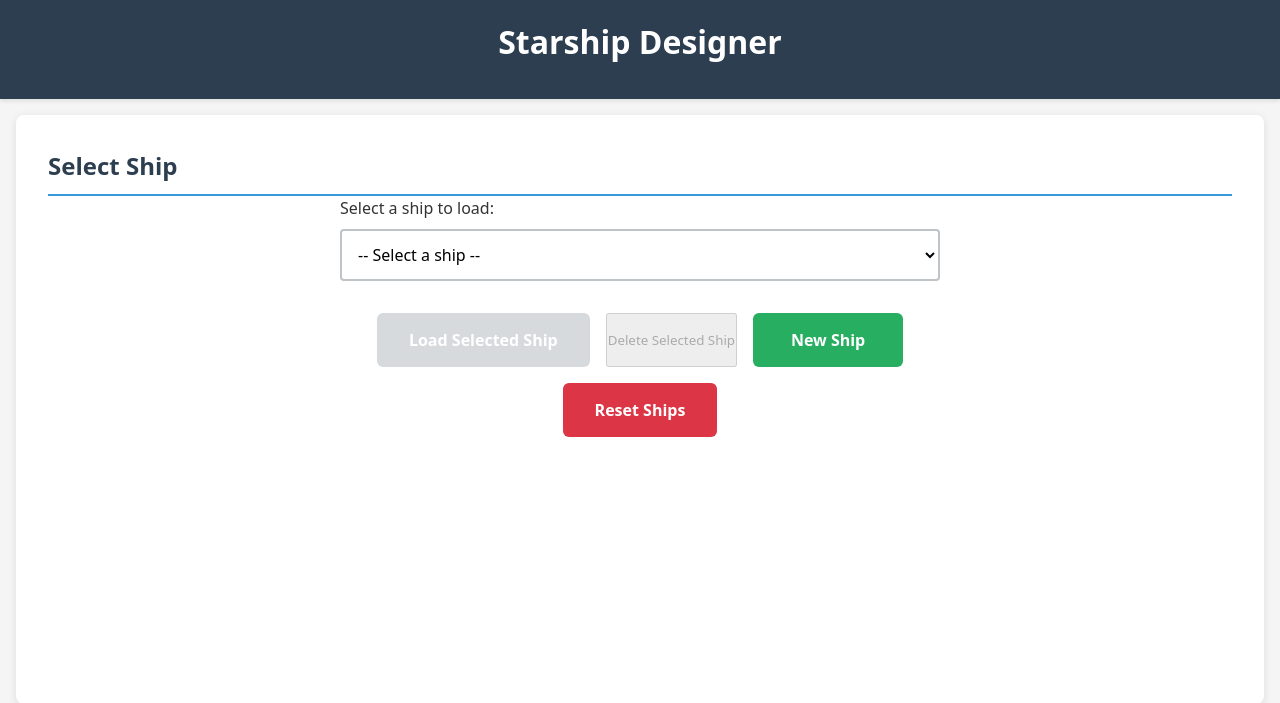
Scenario: App › panel nav buttons appear when in design mode
The width and height of the screenshot is (1280, 703).
What coordinates should you click on to do the following:
click the button "New Ship"
I would click on:
 (828, 340)
Its box is [753, 313, 903, 367].
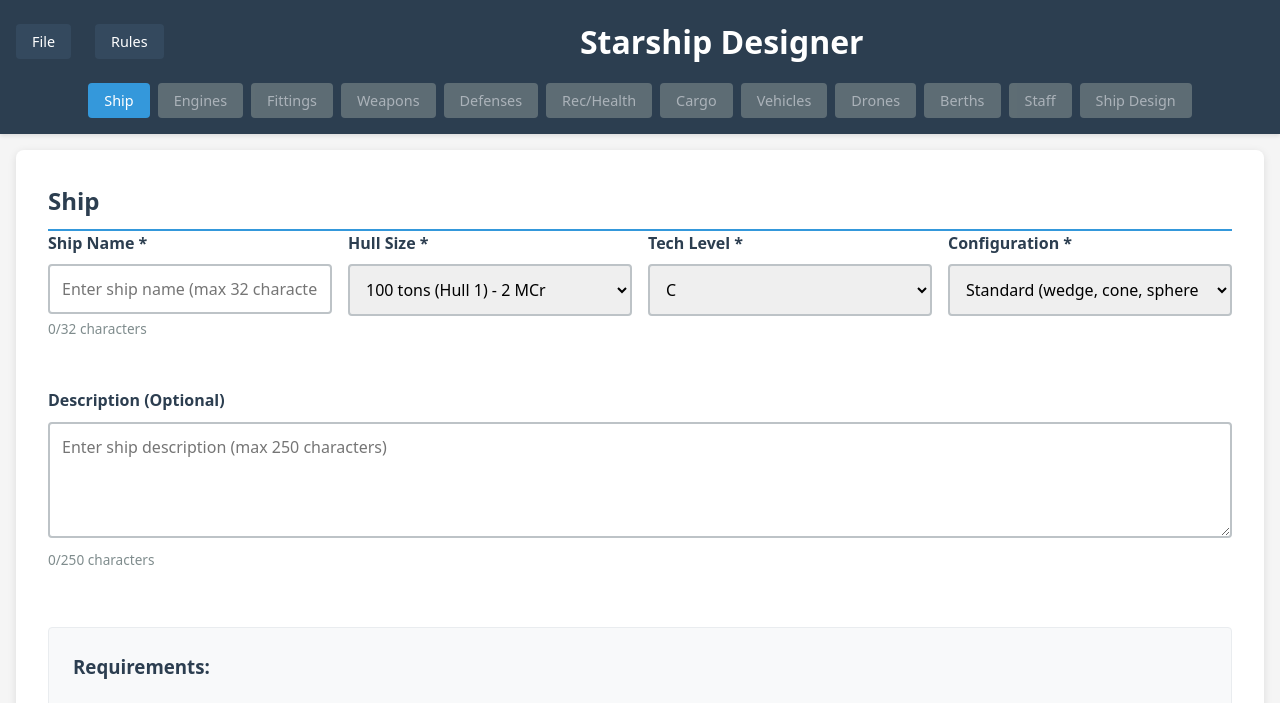
expect the button "Ship" is shown: met, box [88, 83, 150, 118]
expect the button "Engines" is shown: met, box [158, 83, 243, 118]
